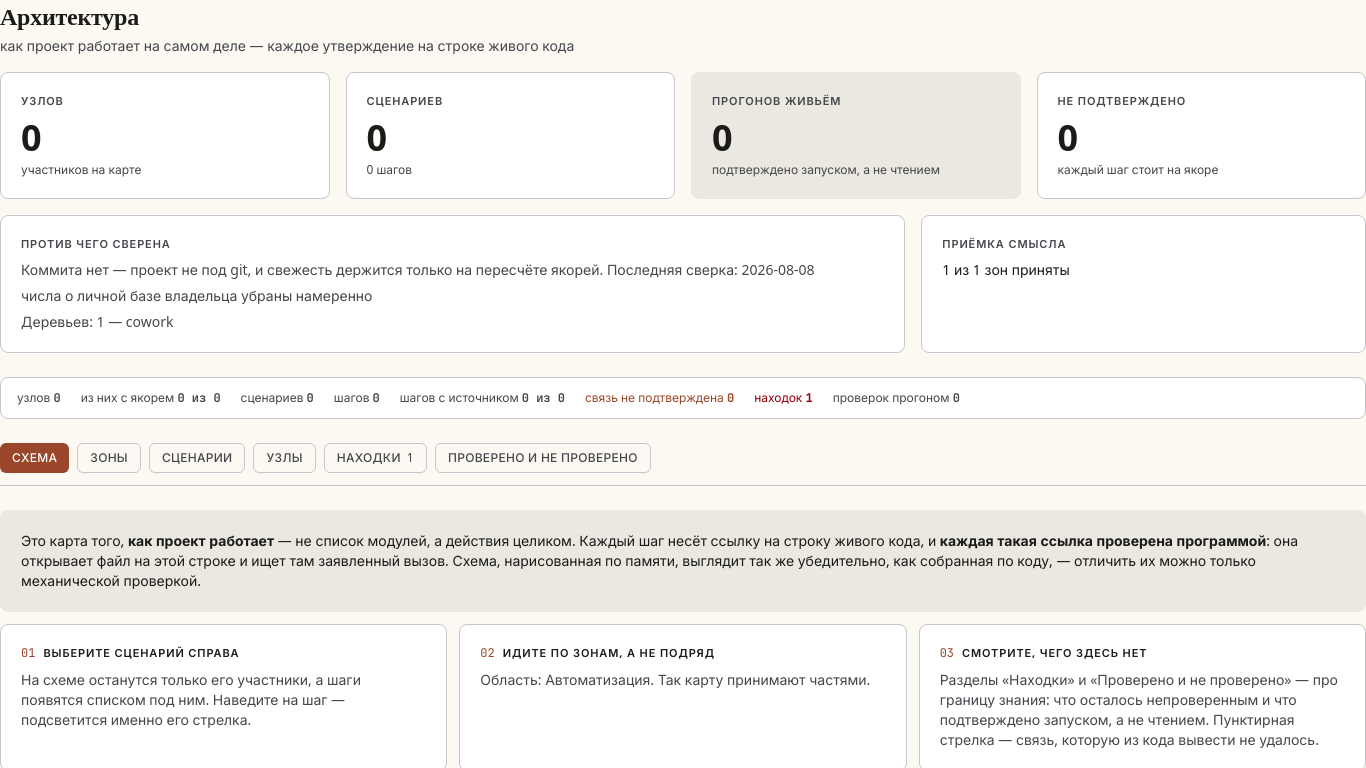
Scenario: ArchitectureView › держит длинный текст приёмки в зонах, а не в шапке
Expected: the text "1 из 1 зон приняты" is shown, [942,260,1070,279]
Click the button "Зоны".
click(109, 458)  # box [77,443,141,473]
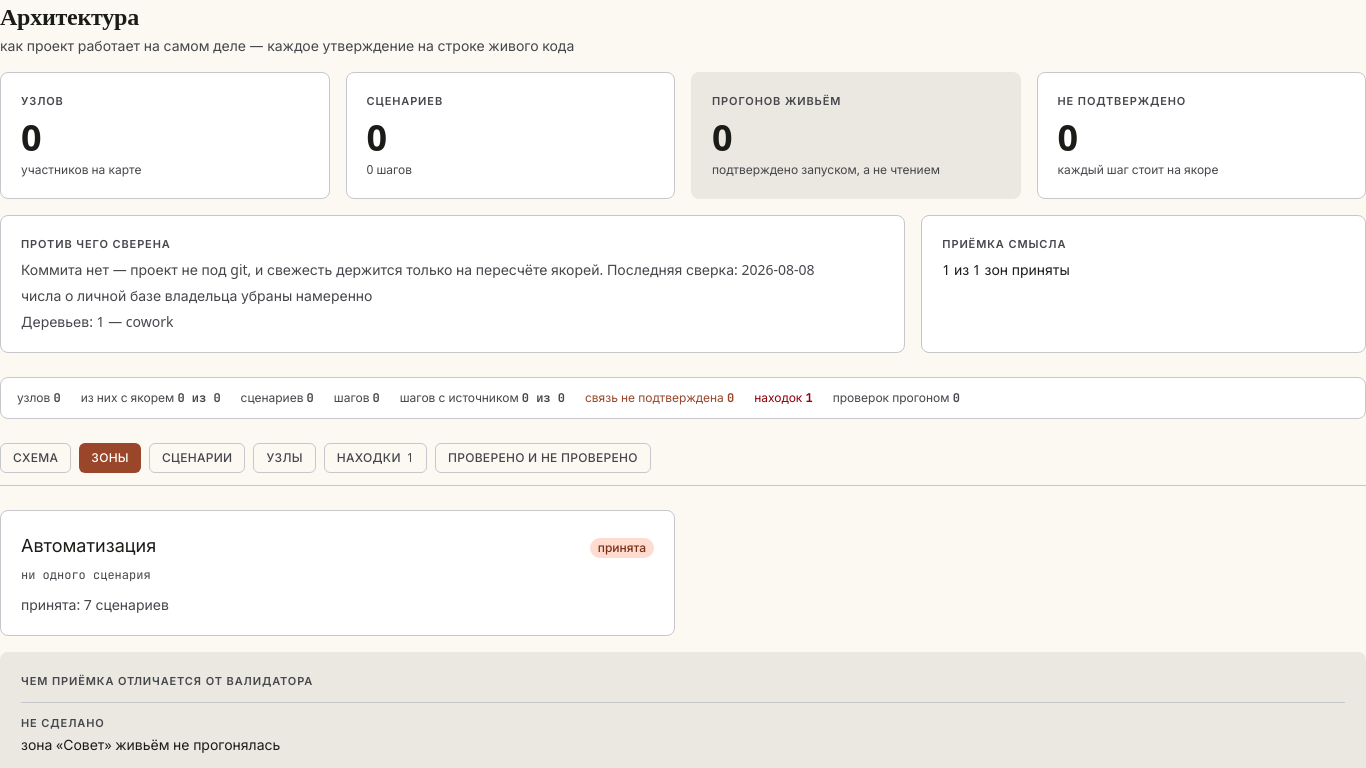
Result: the text "зона «Совет» живьём не прогонялась" is shown at [21,735,280,754]
Click the button "Сценарии".
click(197, 458)  # box [149,443,246,473]
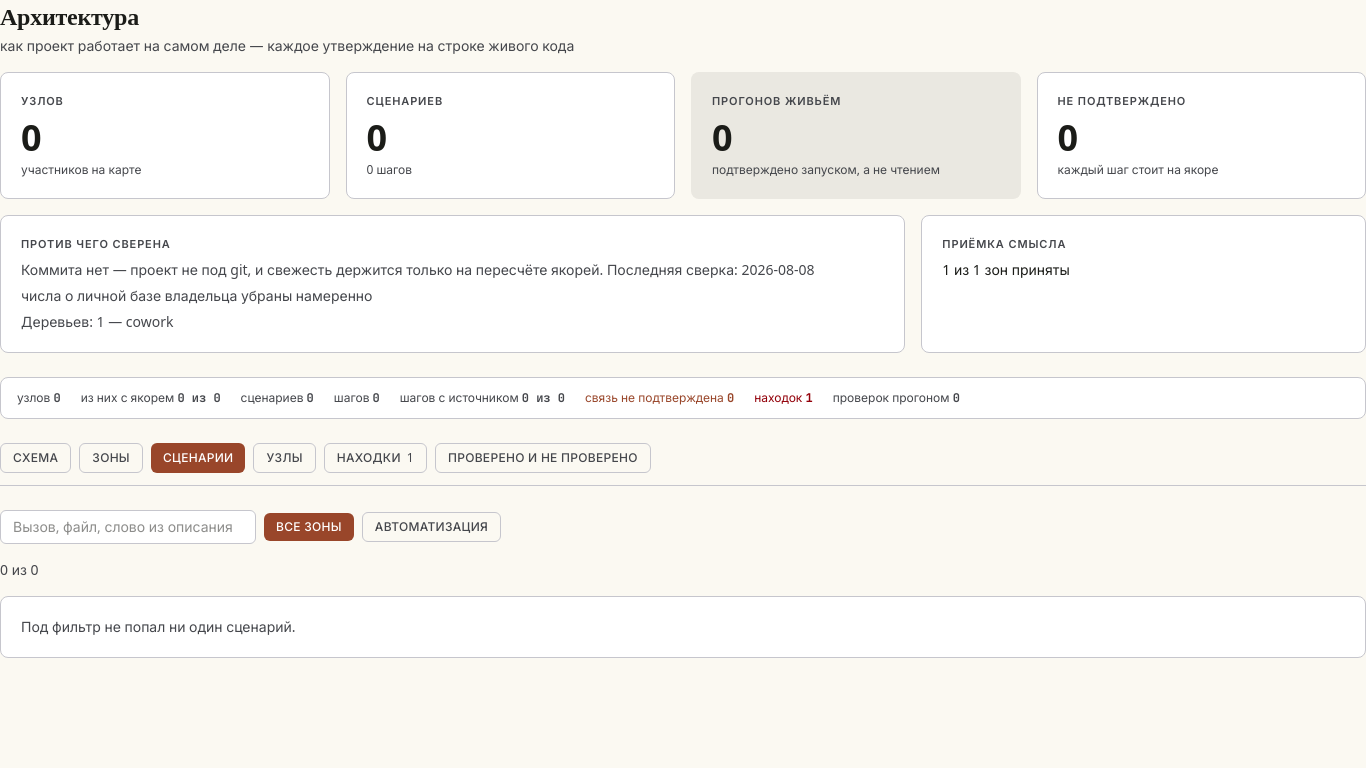
Result: the text "зона «Совет» живьём не прогонялась" is gone
